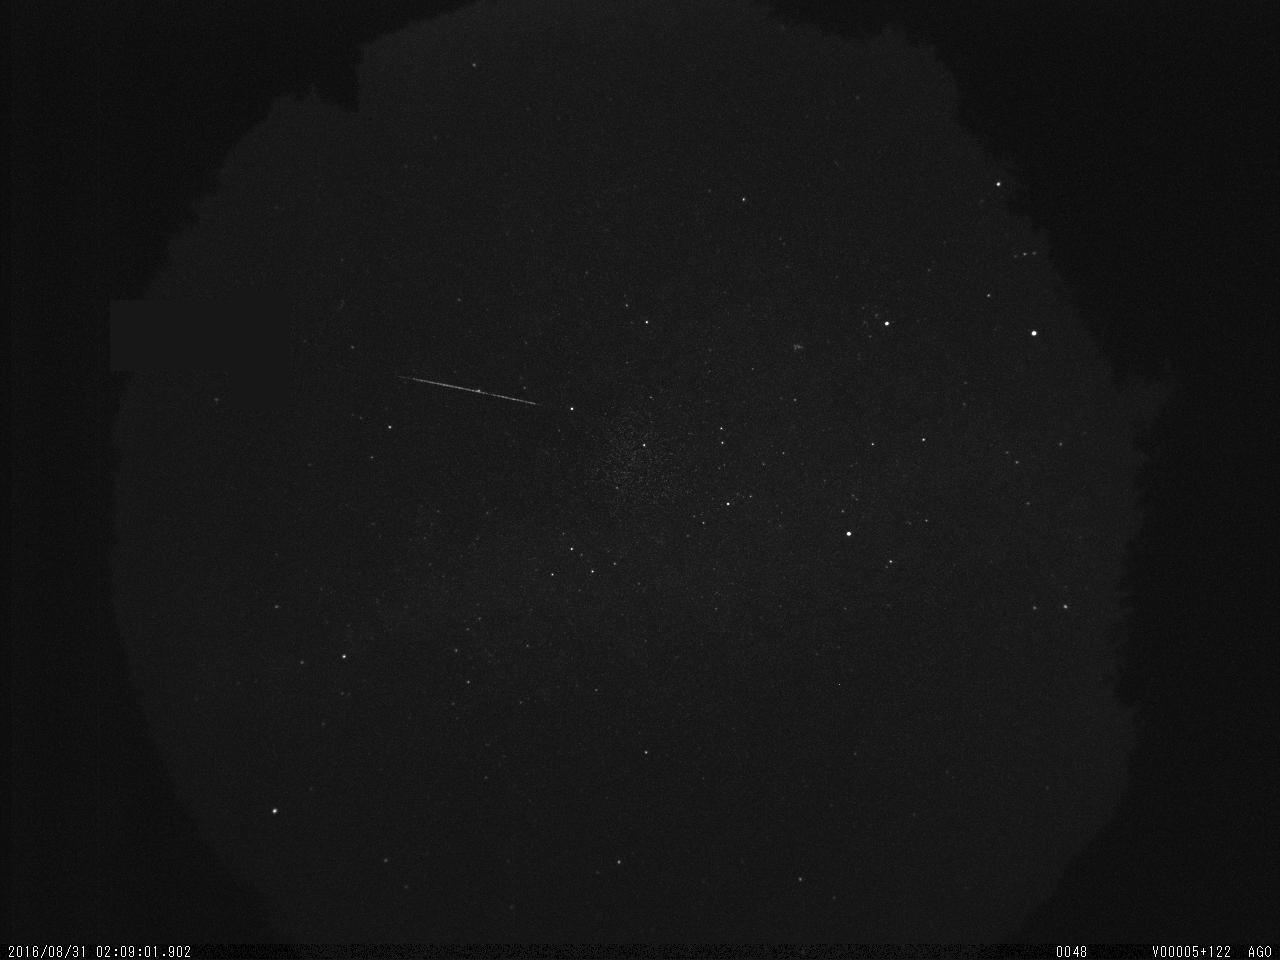meteor: (388, 362, 545, 419)
